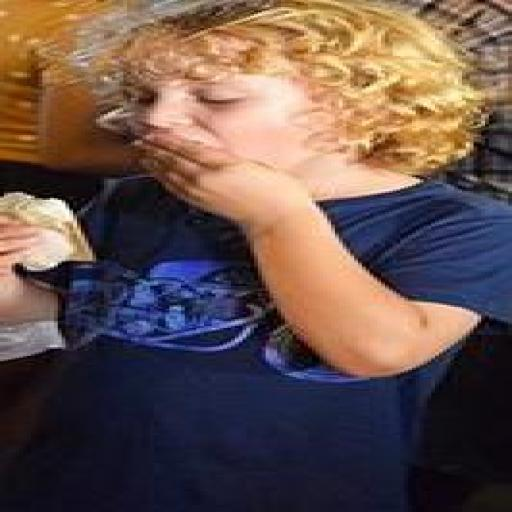person: (0, 0, 511, 511), (0, 0, 134, 208), (0, 0, 130, 208)
